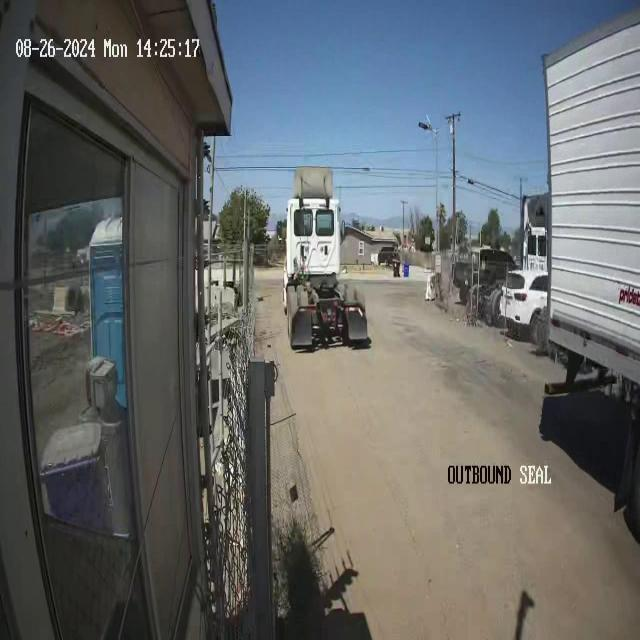TRUCK_IN: (545, 2, 637, 520)
TRUCK_OUT: (282, 165, 369, 352)
